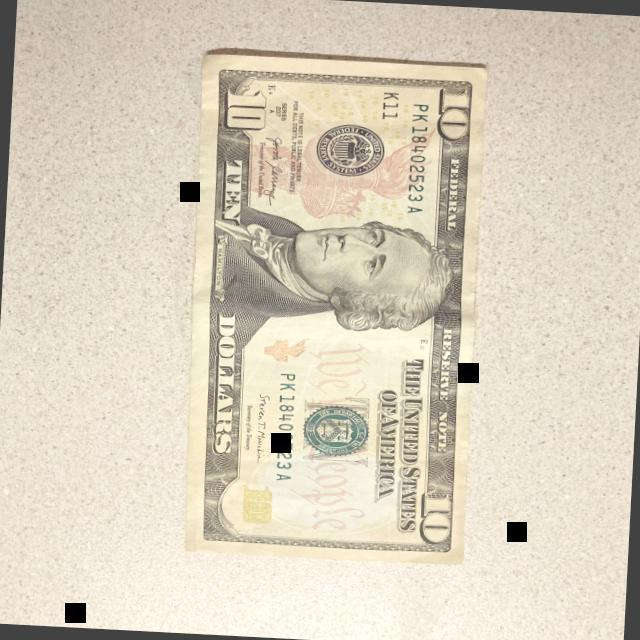ten: (176, 52, 492, 566)
